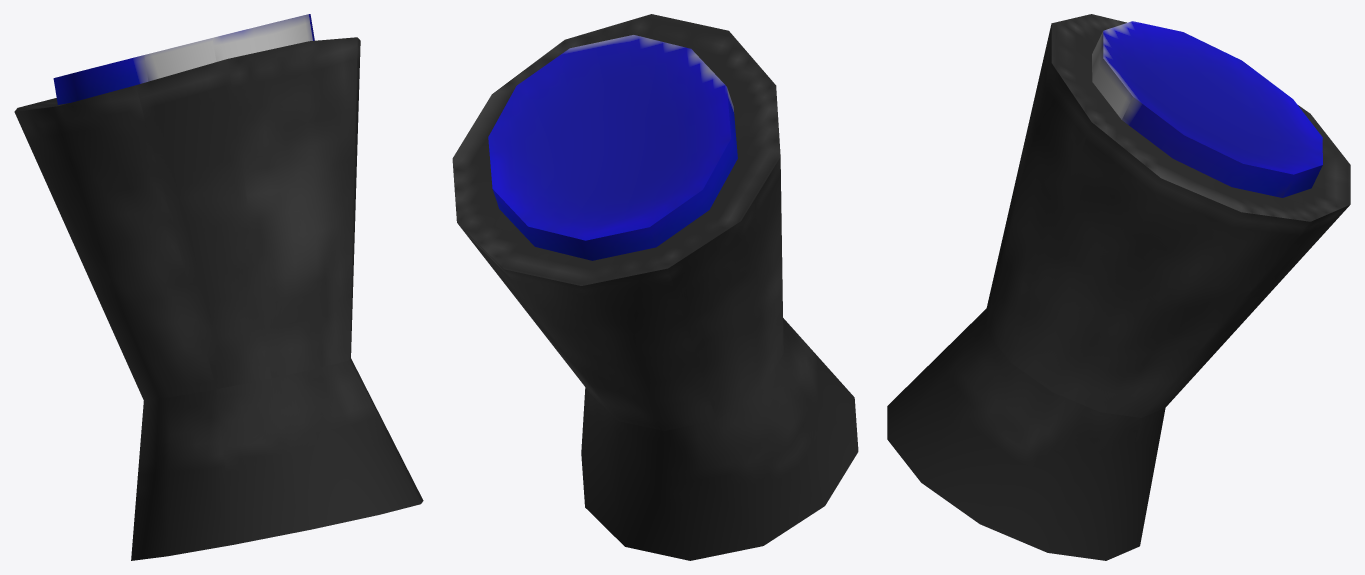
The model's file is blue_button.fbx.
The picture shows the model from 3 angles, left to right: view 1: azimuth 30°, elevation 25°; view 2: azimuth 150°, elevation 25°; view 3: azimuth 270°, elevation 25°; orthographic projection. The views are drawn at different scales.
Visible parts, largest first — view 1: Cylinder.004; view 2: Cylinder.004; view 3: Cylinder.004.
Part boxes in pixels (x1,y1,x2,y2): Cylinder.004: (14, 14, 423, 560); Cylinder.004: (452, 14, 858, 560); Cylinder.004: (887, 14, 1350, 560).
Bounding box in the file's own units: 59.41 × 97.66 × 82.98.
Materials: 1 (1 with a texture image).
